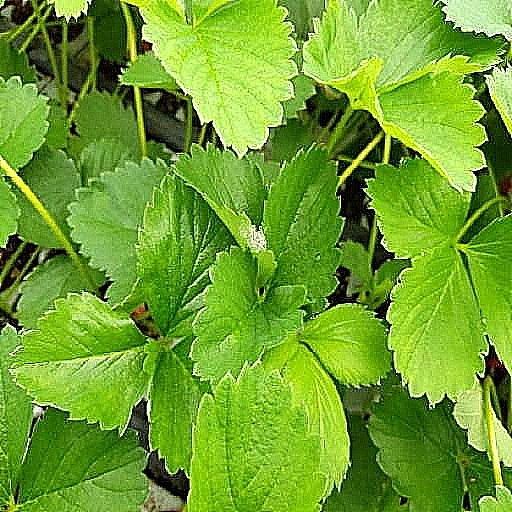Powdery Mildew Leaf: (170, 142, 280, 294)
